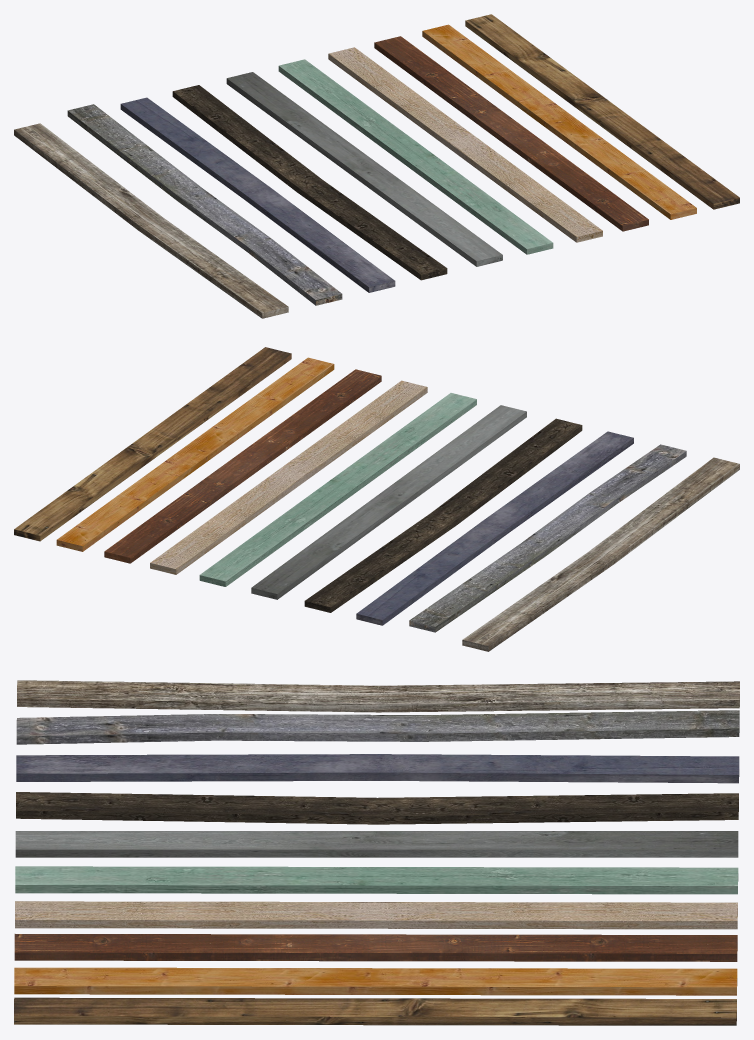
File: plank pack.fbx
The picture shows the model from 3 angles, top to bottom: view 1: azimuth 30°, elevation 25°; view 2: azimuth 150°, elevation 25°; view 3: azimuth 270°, elevation 25°; orthographic projection. The views are drawn at different scales.
Parts seen in each view (by area): view 1: Cube.008, Cube.005, Cube.007, Cube.006, Cube.002, Cube.004, Cube.001, Cube.003, Cube.009, Cube; view 2: Cube.001, Cube.002, Cube, Cube.004, Cube.007, Cube.006, Cube.009, Cube.003, Cube.005, Cube.008; view 3: Cube.001, Cube.006, Cube.003, Cube.009, Cube.002, Cube.008, Cube.007, Cube, Cube.004, Cube.005.
Boxes of the visible parts, box(x1,y1,x2,y2) form: Cube.008: box(67, 104, 342, 305); Cube.005: box(226, 72, 502, 266); Cube.007: box(120, 97, 395, 292); Cube.006: box(278, 59, 553, 254); Cube.002: box(172, 85, 447, 280); Cube.004: box(374, 36, 648, 231); Cube.001: box(422, 24, 696, 219); Cube.003: box(328, 47, 602, 242); Cube.009: box(14, 123, 288, 318); Cube: box(465, 14, 739, 209); Cube.001: box(56, 357, 334, 551); Cube.002: box(304, 418, 582, 612); Cube: box(14, 347, 291, 541); Cube.004: box(104, 369, 381, 563); Cube.007: box(356, 431, 633, 625); Cube.006: box(199, 393, 476, 586); Cube.009: box(462, 457, 739, 651); Cube.003: box(150, 380, 427, 574); Cube.005: box(251, 405, 526, 599); Cube.008: box(409, 444, 686, 632); Cube.001: box(14, 967, 737, 995); Cube.006: box(15, 866, 738, 894); Cube.003: box(15, 901, 737, 929); Cube.009: box(17, 680, 739, 712); Cube.002: box(16, 792, 738, 824); Cube.008: box(16, 710, 739, 744); Cube.007: box(16, 754, 739, 783); Cube: box(14, 997, 736, 1025); Cube.004: box(14, 934, 737, 961); Cube.005: box(15, 831, 738, 857).
Bounding box in the file's own units: 2508 × 78.03 × 2282.
10 materials, 10 textured.
